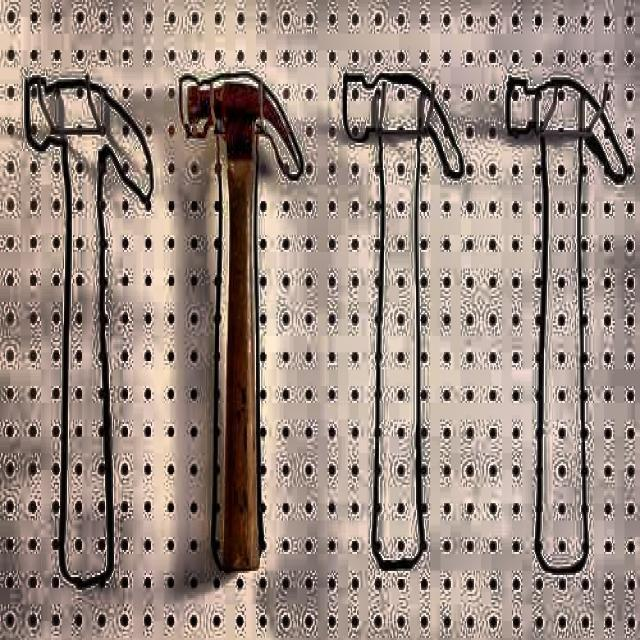hammer: (185, 75, 303, 573)
